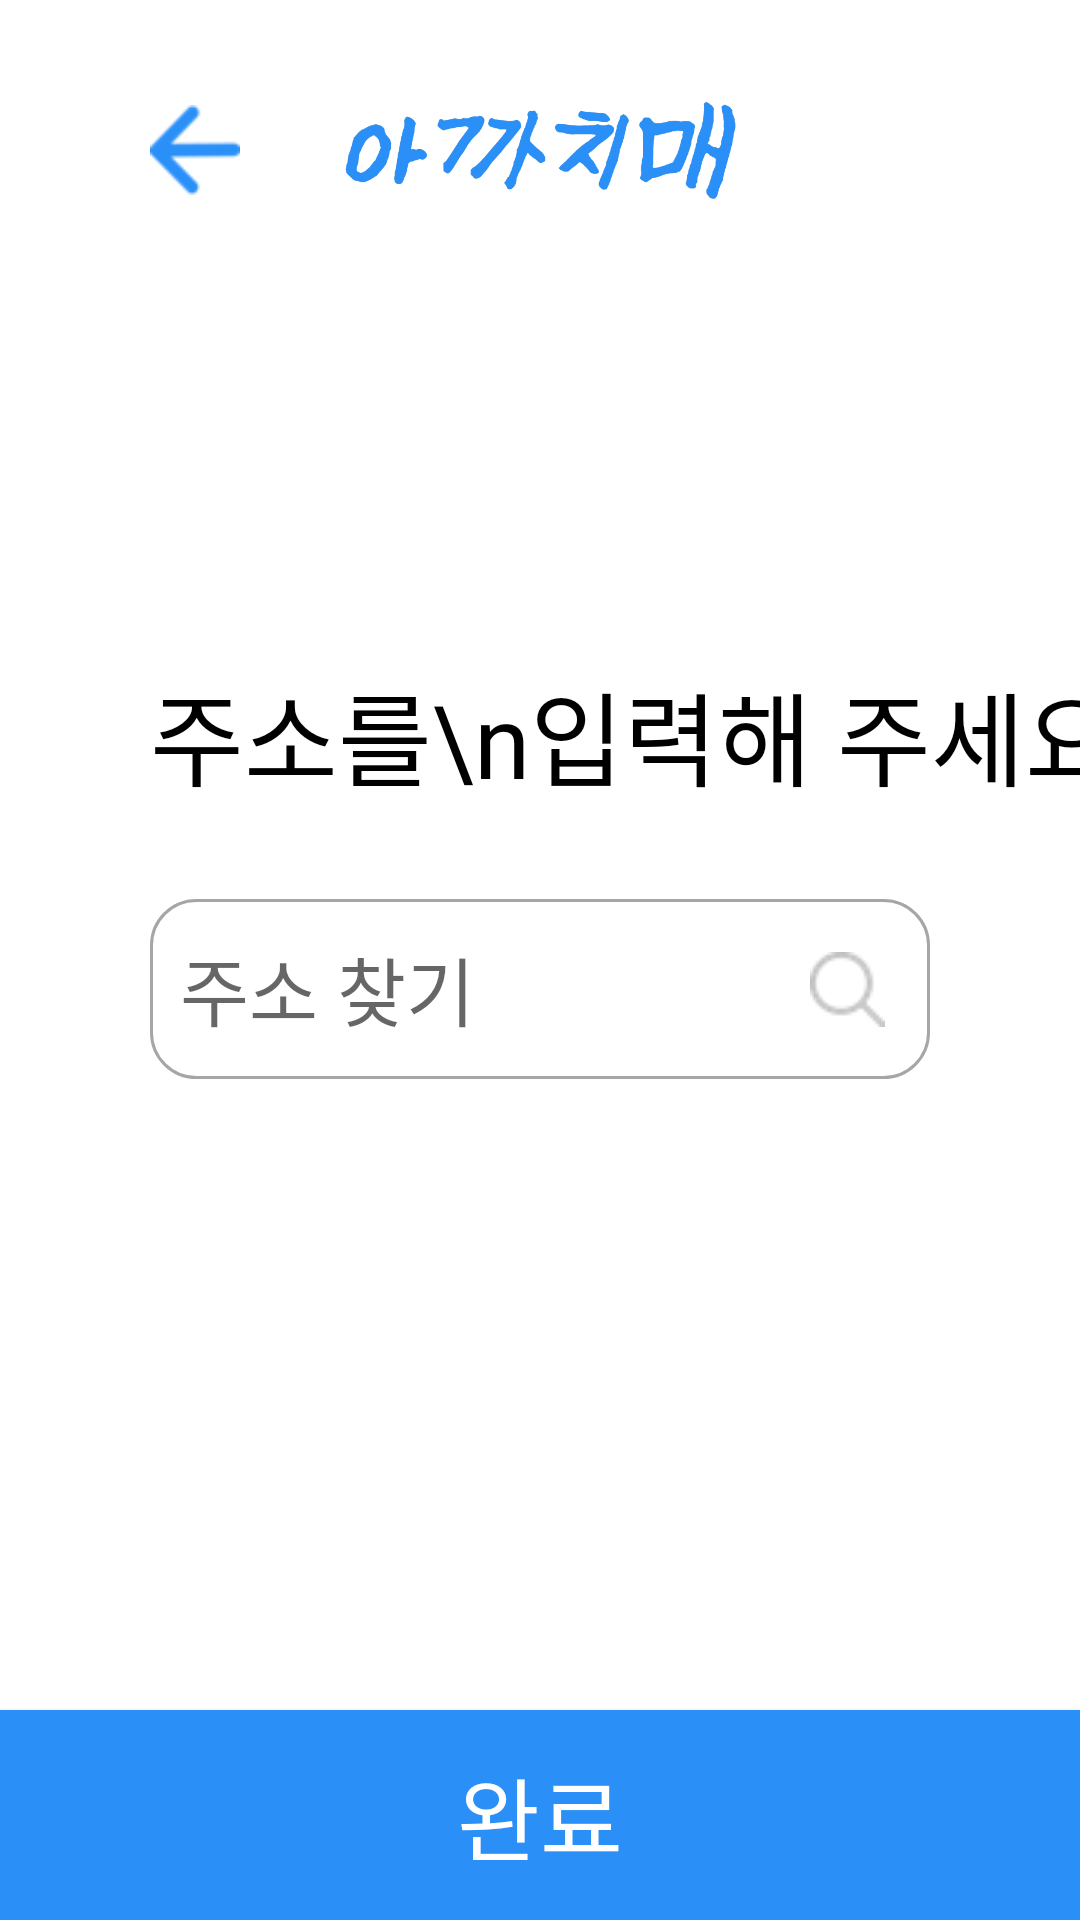

Named icons in this screenshot (1080x1920) and their centers, [x,y]:
back: [195,150]
search: [847,989]
